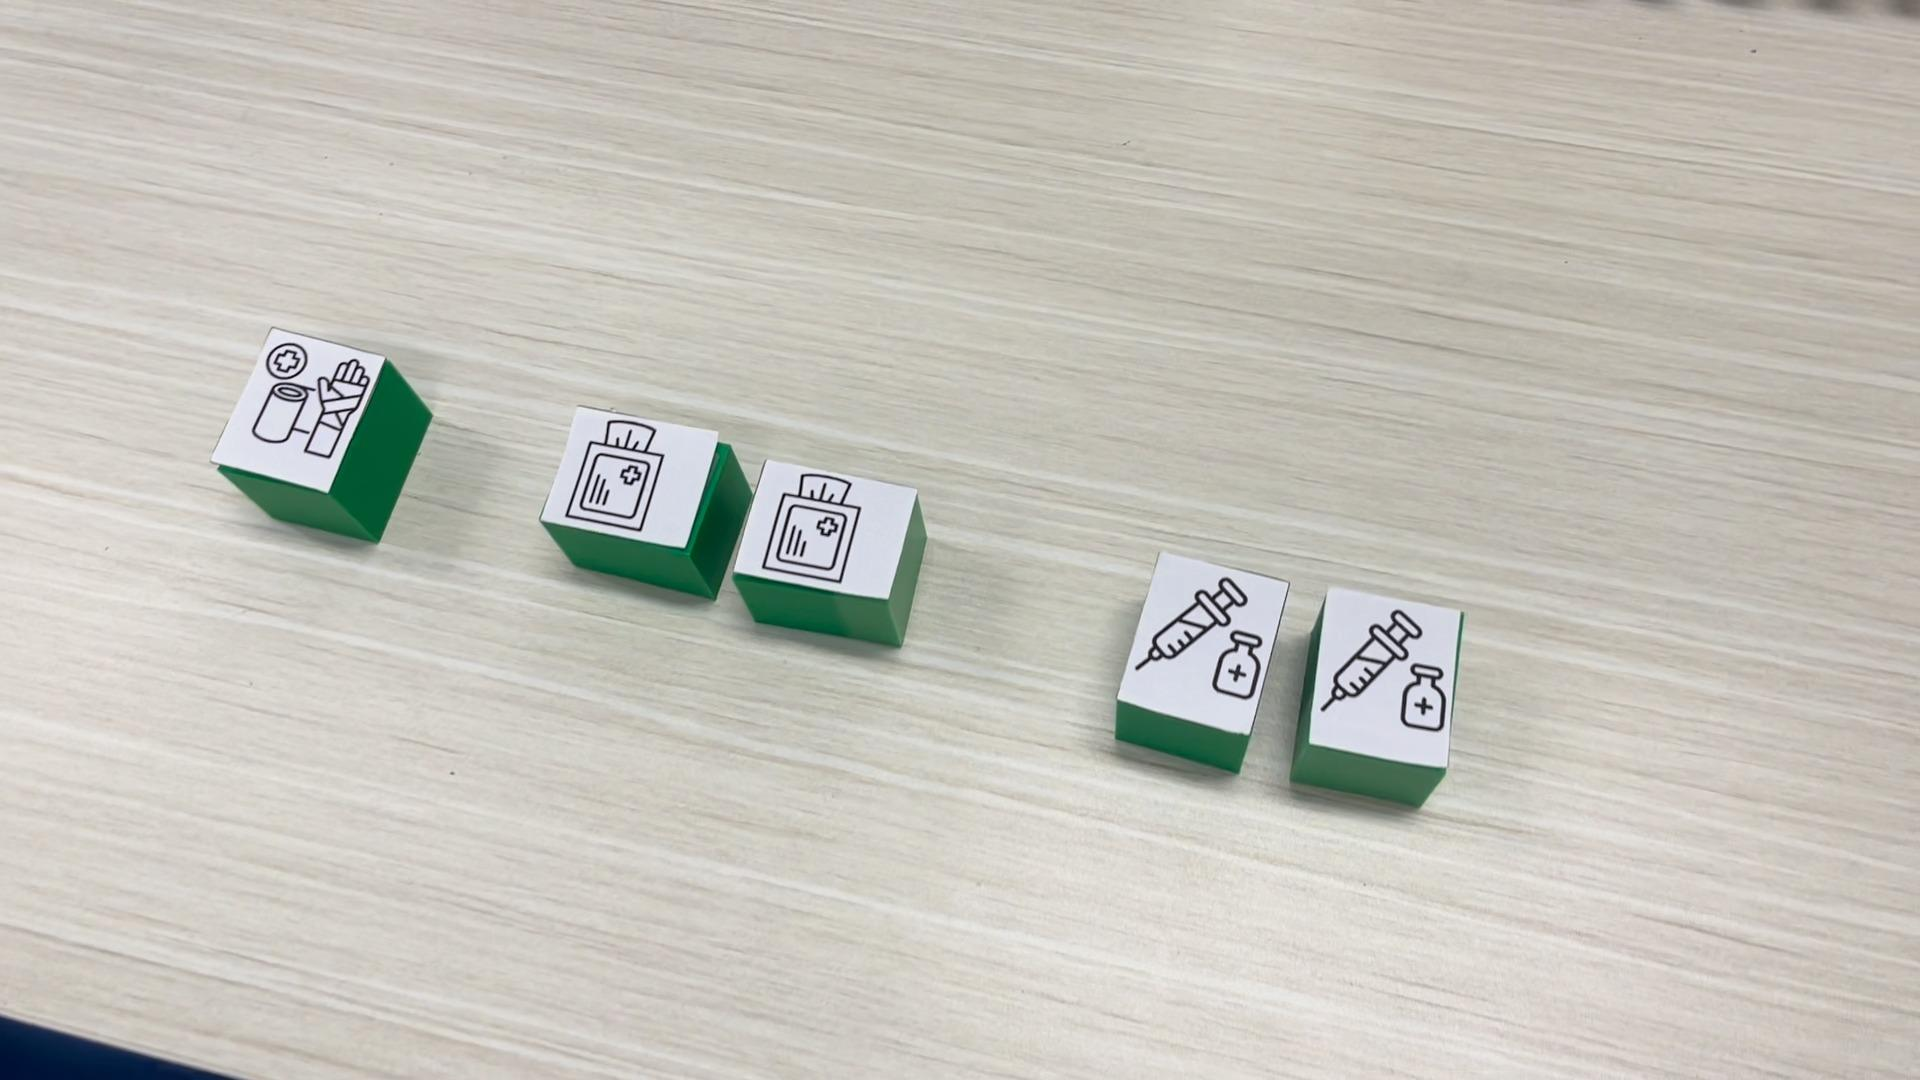Bandages: (211, 327, 431, 543)
Gauze: (538, 404, 750, 601), (735, 459, 930, 650)
antiseptic cream: (1110, 549, 1299, 777), (1290, 582, 1466, 808)
